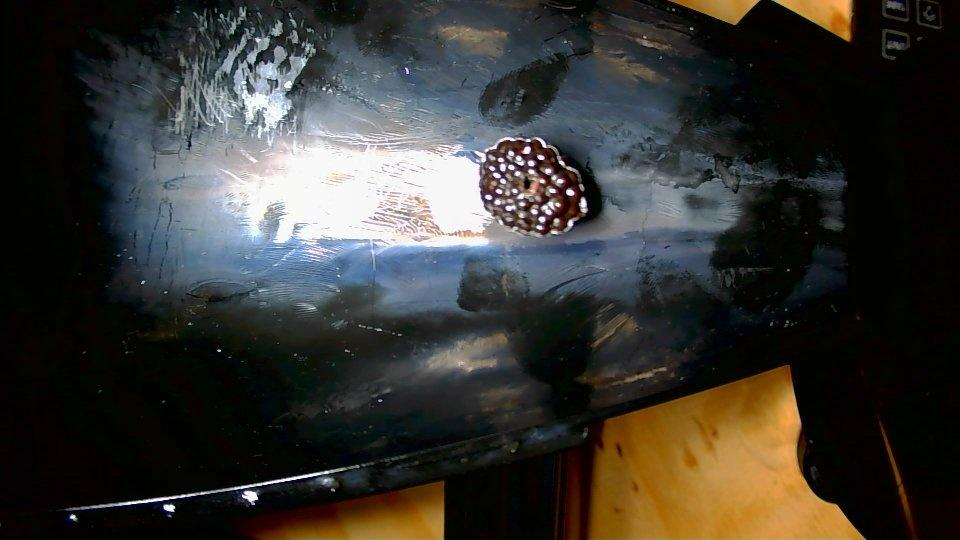berry: (478, 137, 588, 236)
